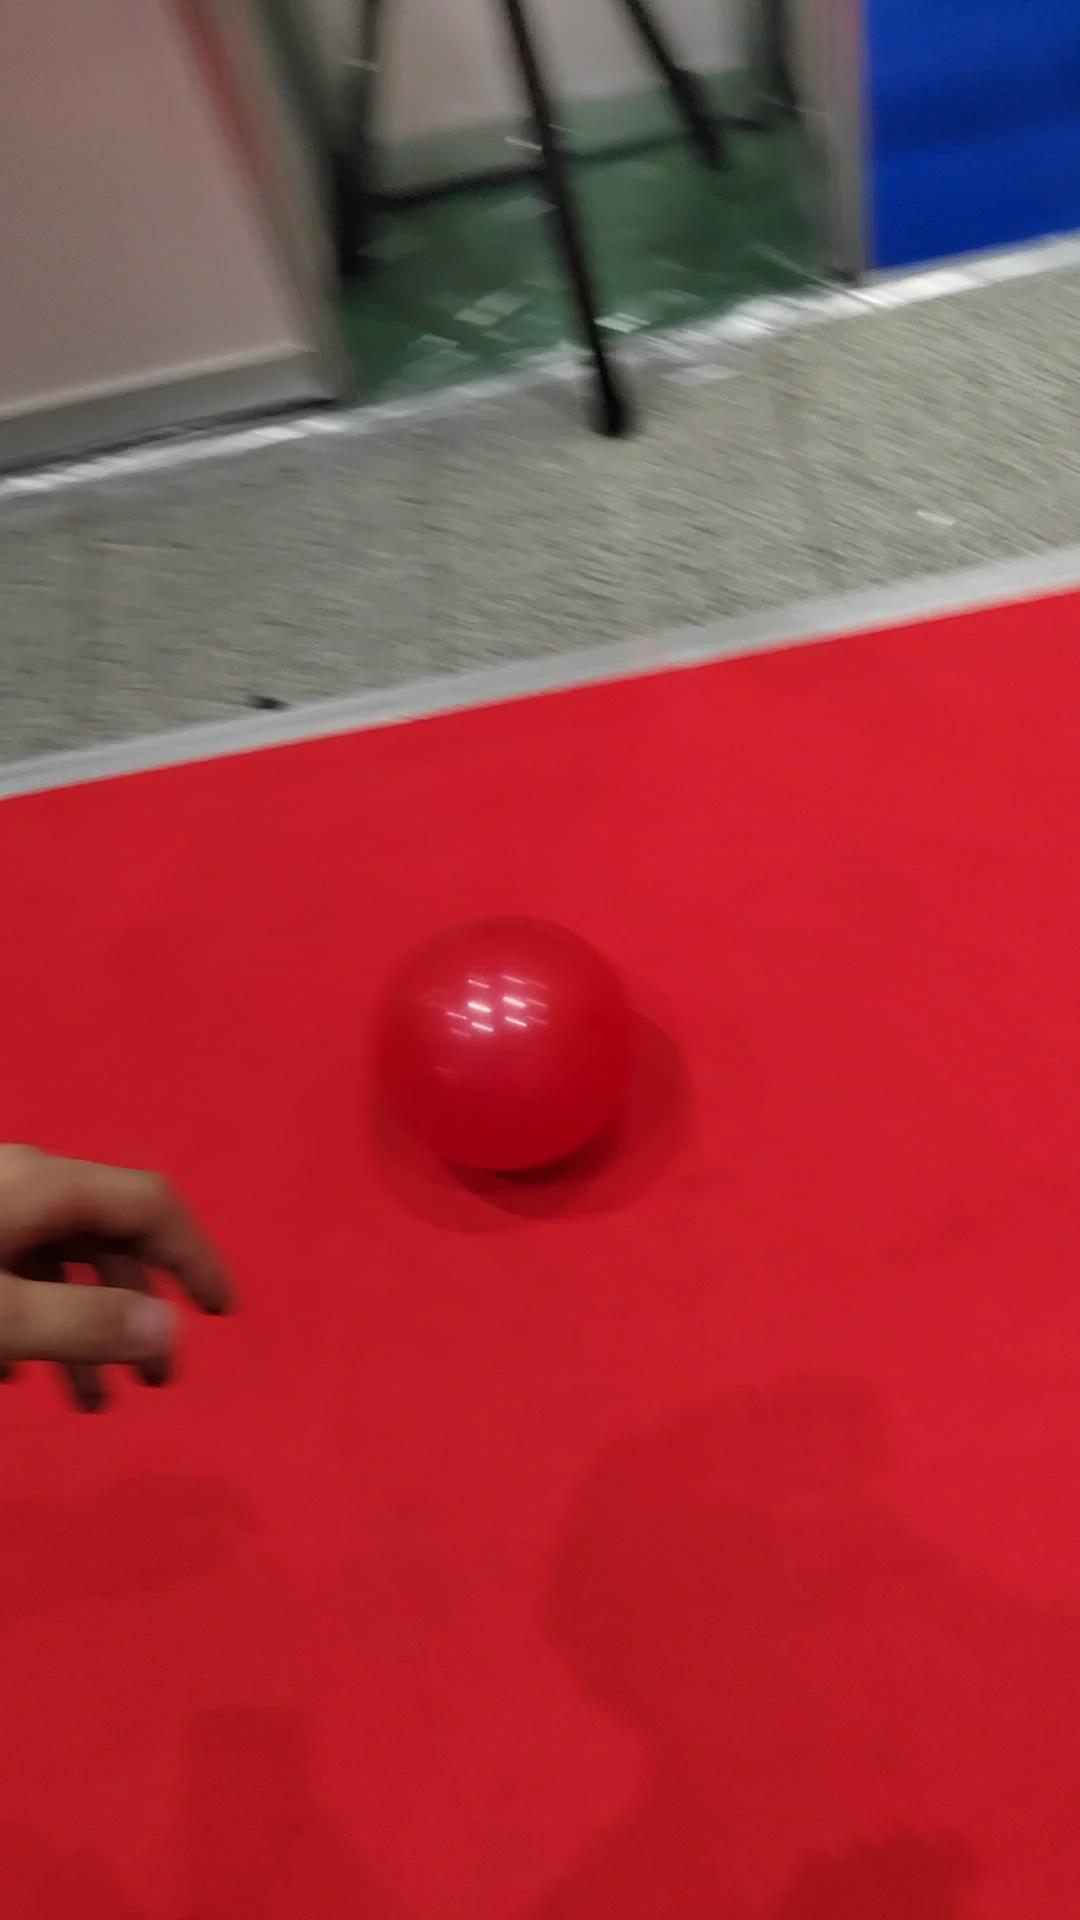red: (378, 915, 629, 1172)
